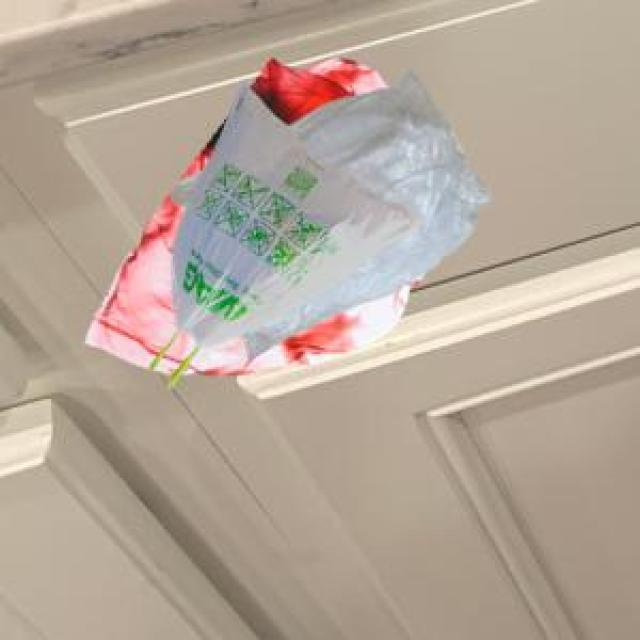plastic: (58, 43, 520, 430)
